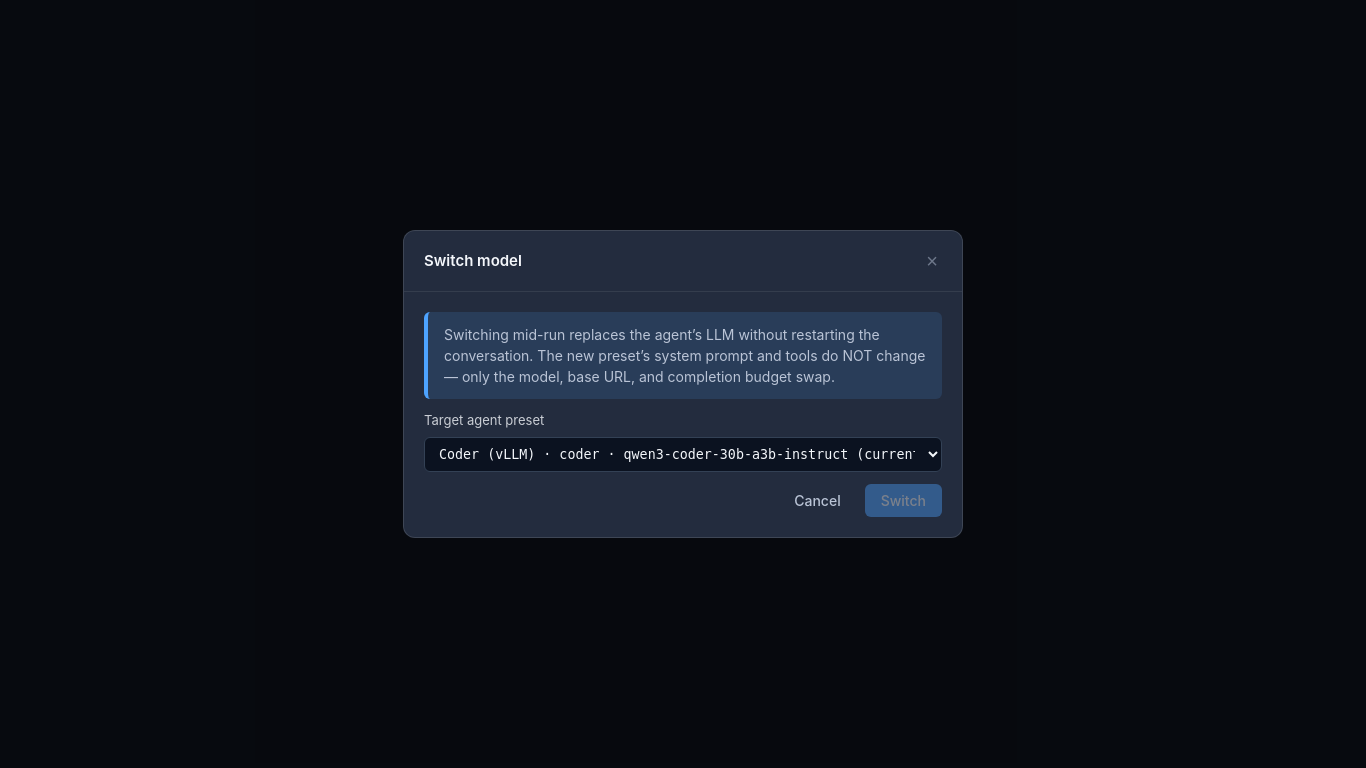
Test: RunModelSwitchModal › 503 model unavailable renders the "Model temporarily unavailable" banner
Select "Coder (Ollama) · coder · qwen3-coder:30b" in the dropdown labelled "Target agent preset" at (683, 454), box [424,437,942,472]
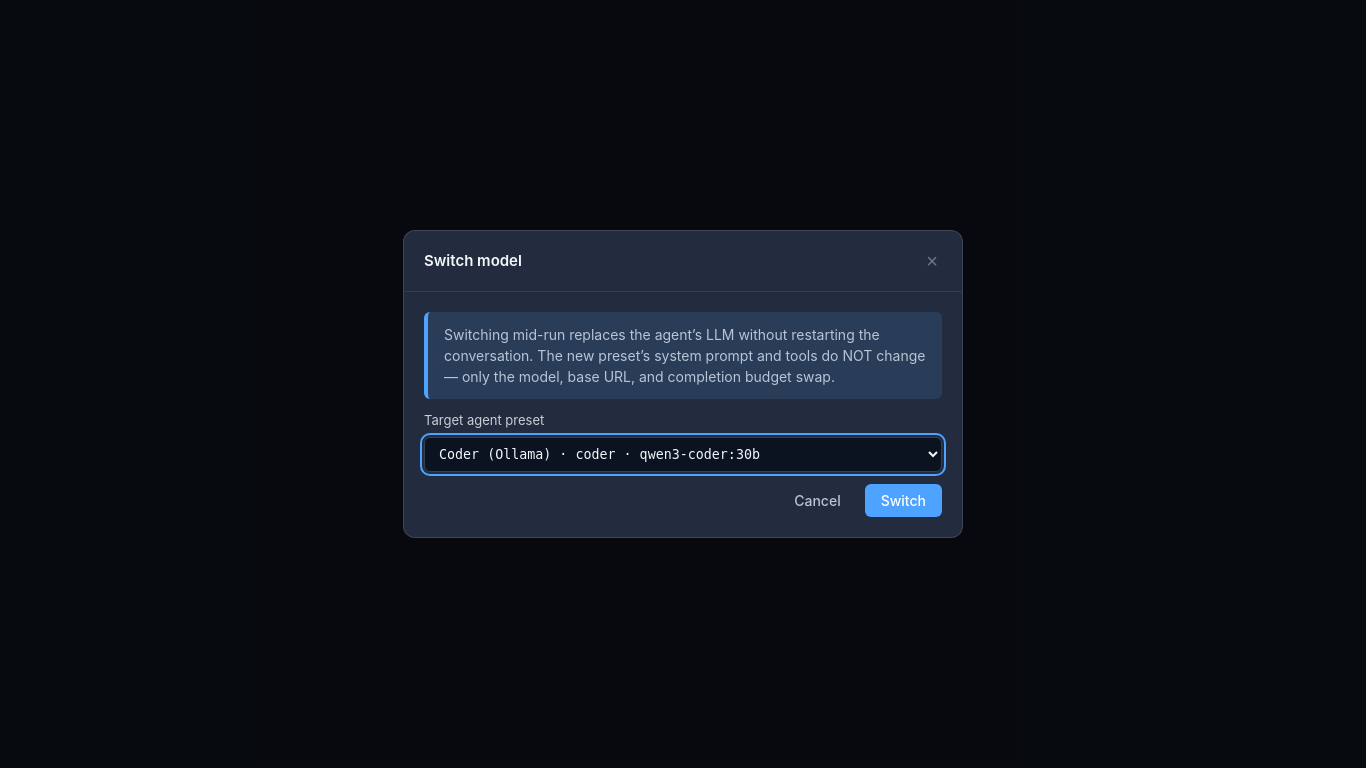
Click the button "Switch" at (903, 500), box [865,484,942,517]
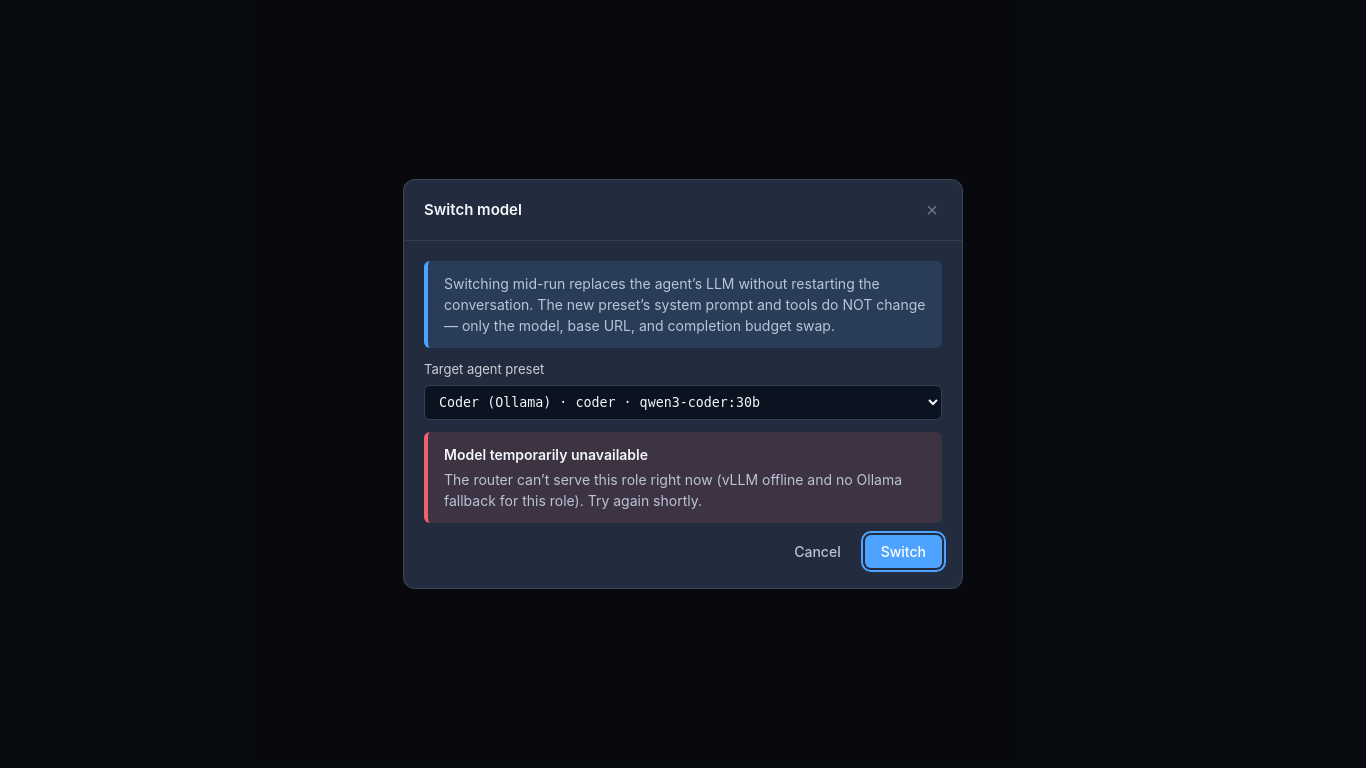
Now the text "Model temporarily unavailable" is shown, box [444,446,648,463]
